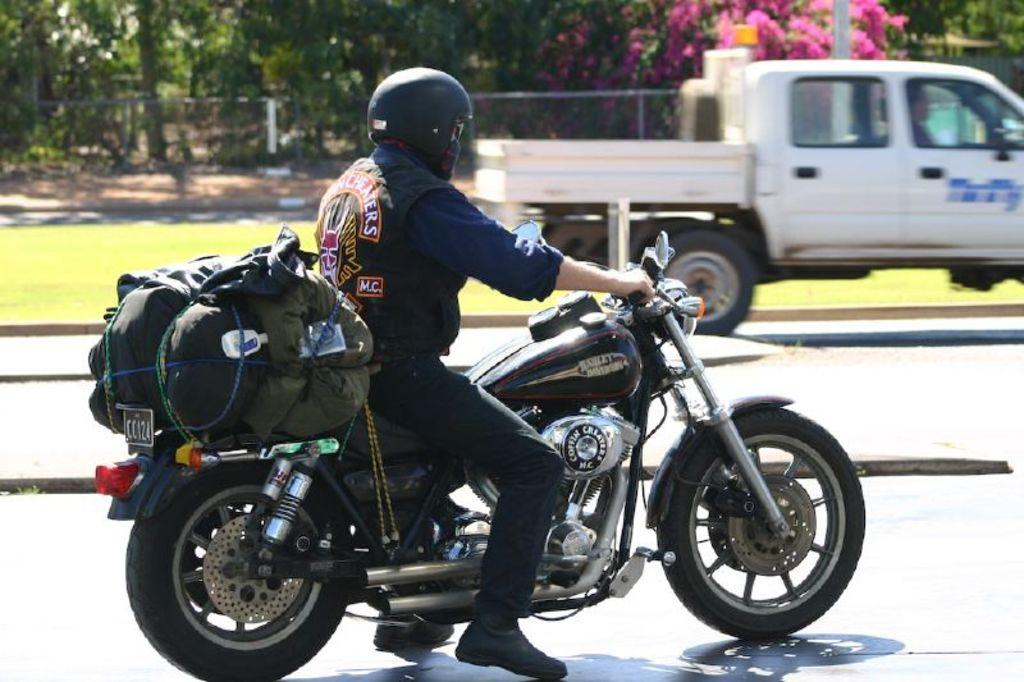helmet: (366, 66, 475, 169)
